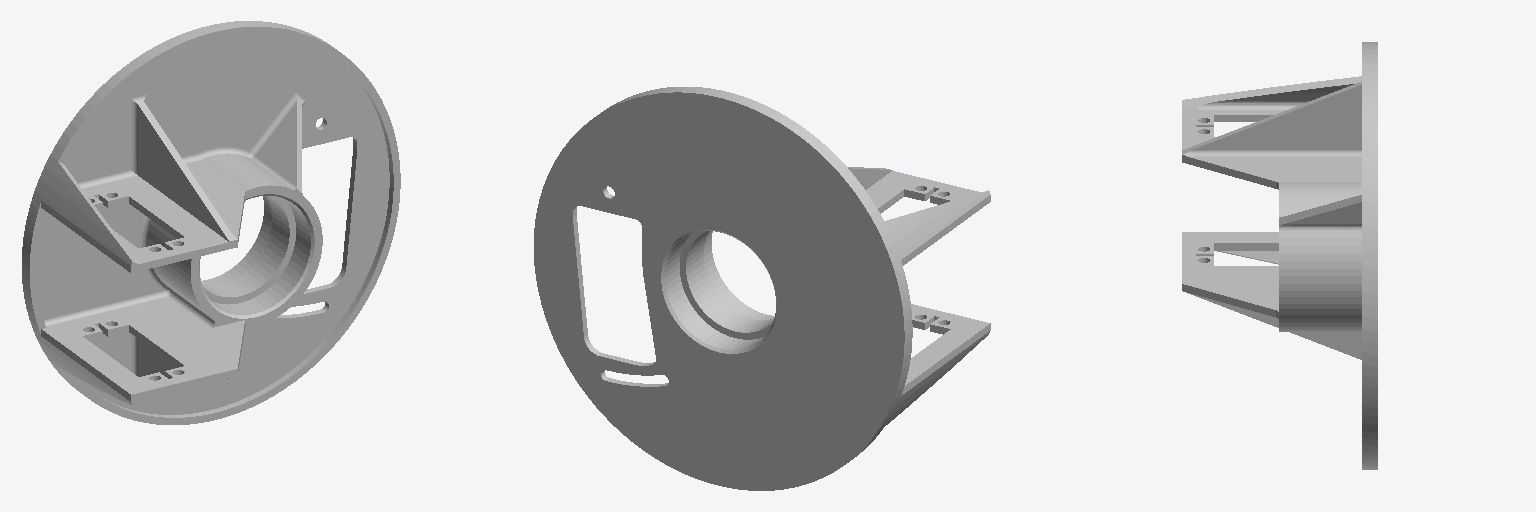
Rendered from Teller.obj.
The picture shows the model from 3 angles: view 1: azimuth 30°, elevation 25°; view 2: azimuth 150°, elevation 25°; view 3: azimuth 270°, elevation 25°; orthographic projection.
Parts seen in each view (by area): view 1: Drehteller; view 2: Drehteller; view 3: Drehteller.
Boxes of the visible parts, box(x1,y1,x2,y2) form: Drehteller: box(22, 21, 400, 424); Drehteller: box(534, 87, 990, 490); Drehteller: box(1182, 42, 1377, 469).
Bounding box in the file's own units: 16 × 16 × 7.3.